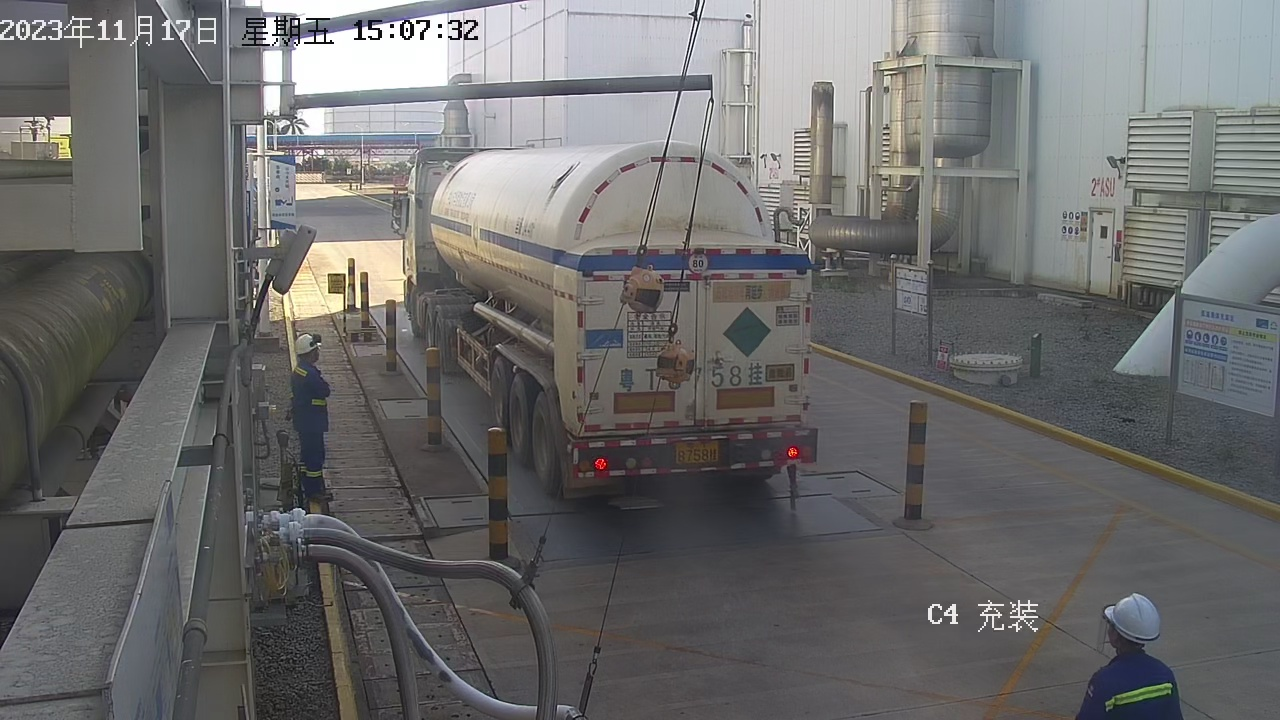Head_with_Helmet: (1073, 579, 1169, 661), (282, 324, 335, 367)
Uniform: (257, 354, 372, 516)
